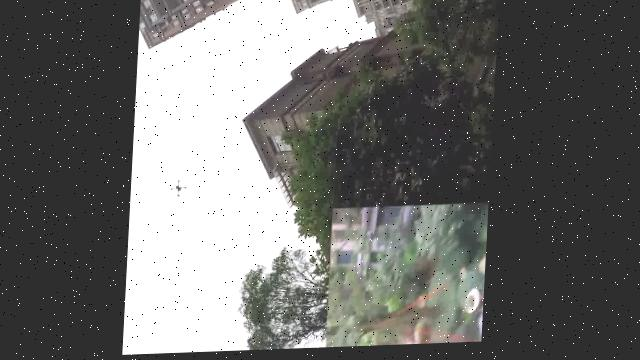drone: (154, 168, 191, 200)
